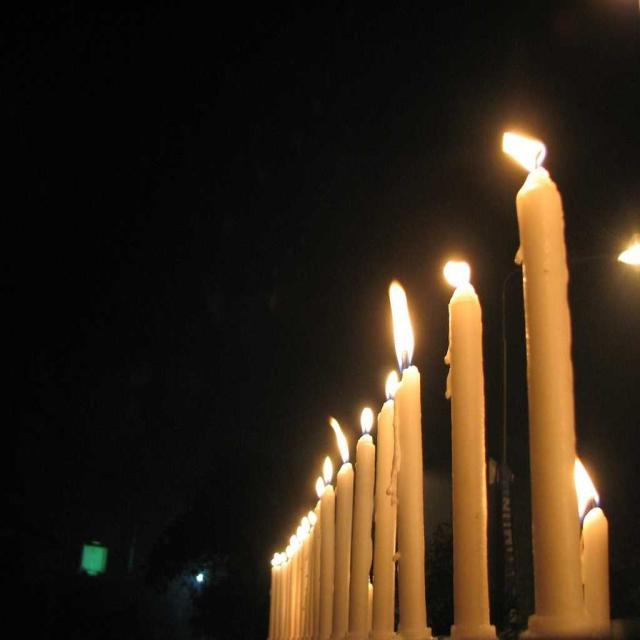Fire: (264, 514, 322, 573), (388, 276, 422, 374), (498, 127, 562, 173), (573, 446, 612, 520), (433, 252, 482, 298), (325, 413, 355, 471), (354, 396, 384, 438)
